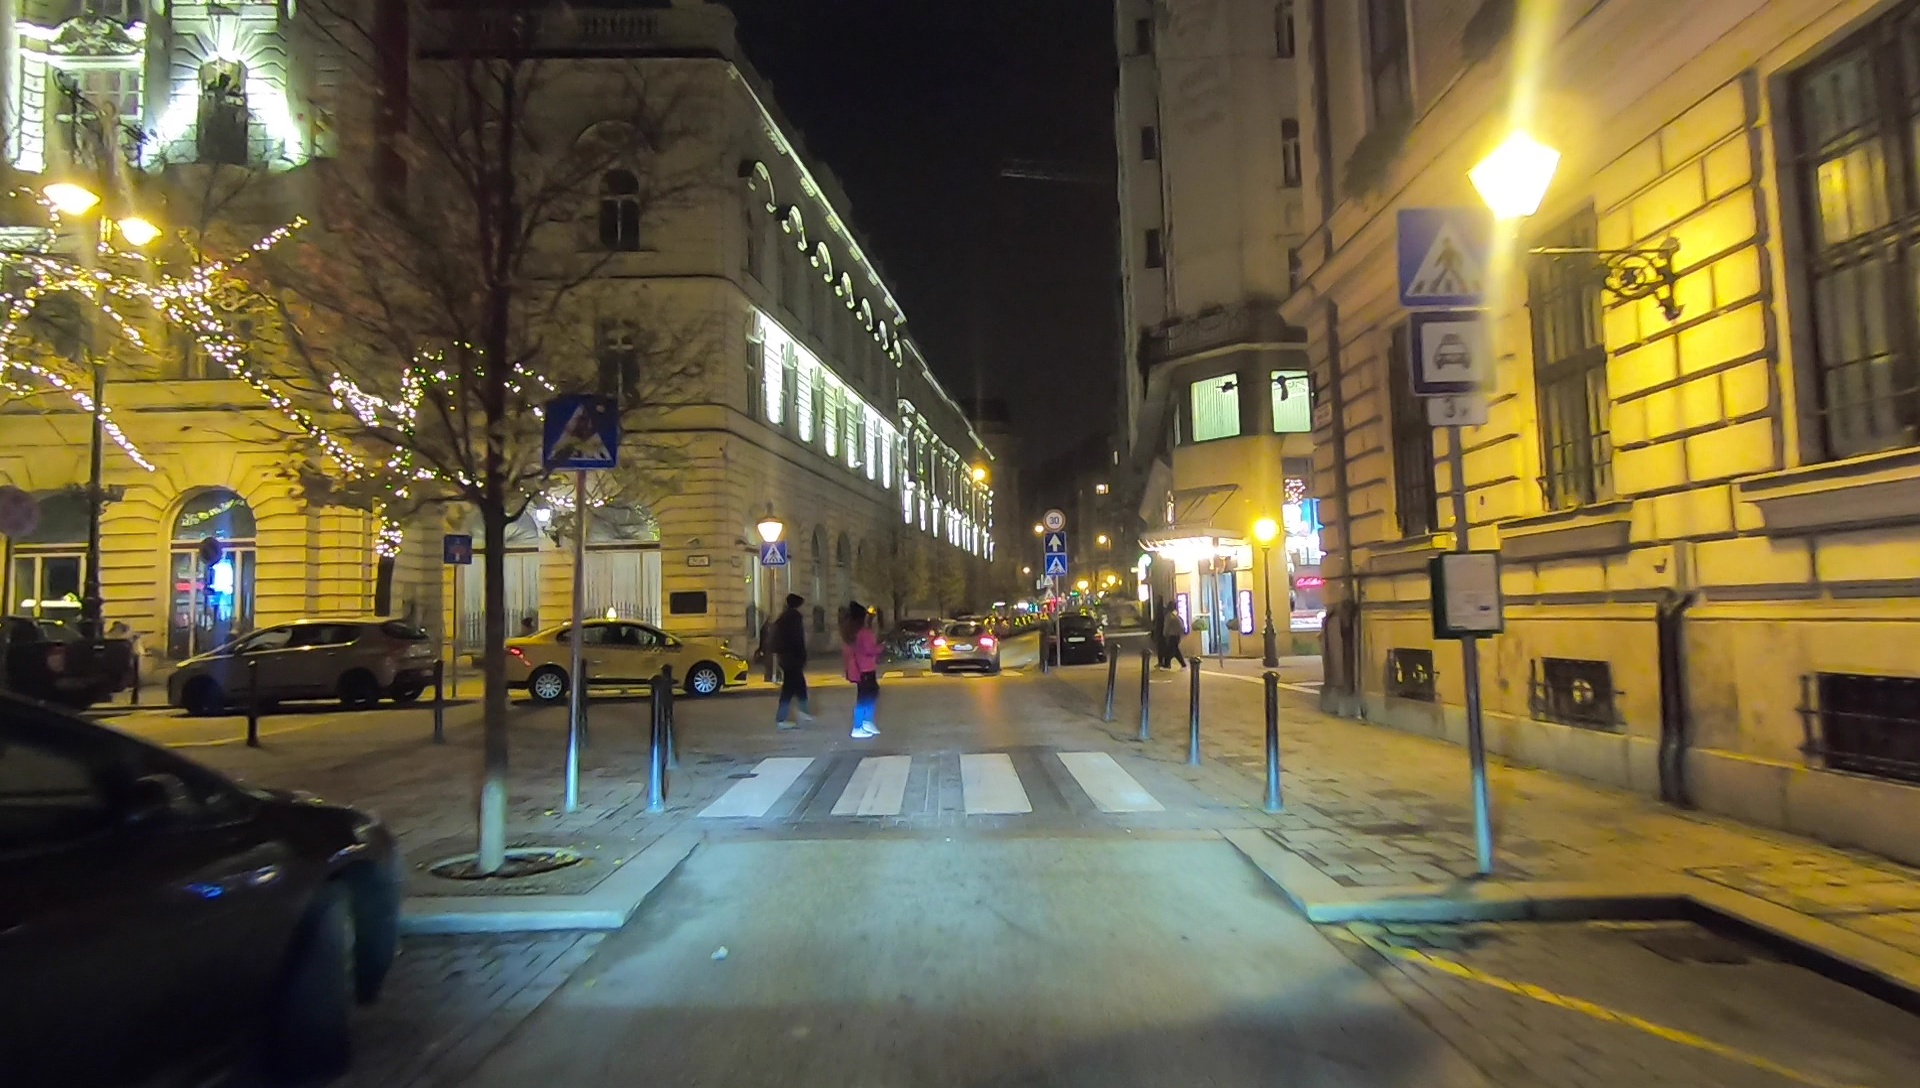person: (839, 600, 889, 750), (765, 591, 817, 728), (1147, 597, 1173, 667), (1164, 600, 1186, 665)
